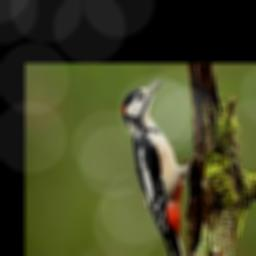Woodpecker: (123, 78, 206, 256)
